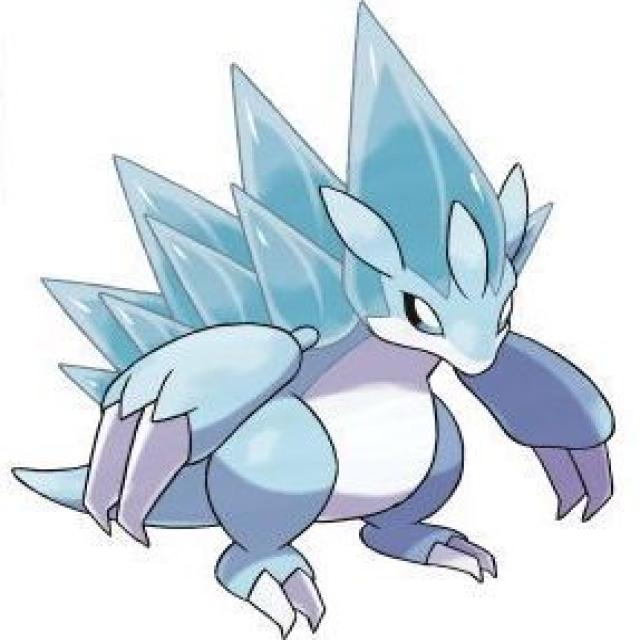Alolan: (77, 66, 564, 577)
